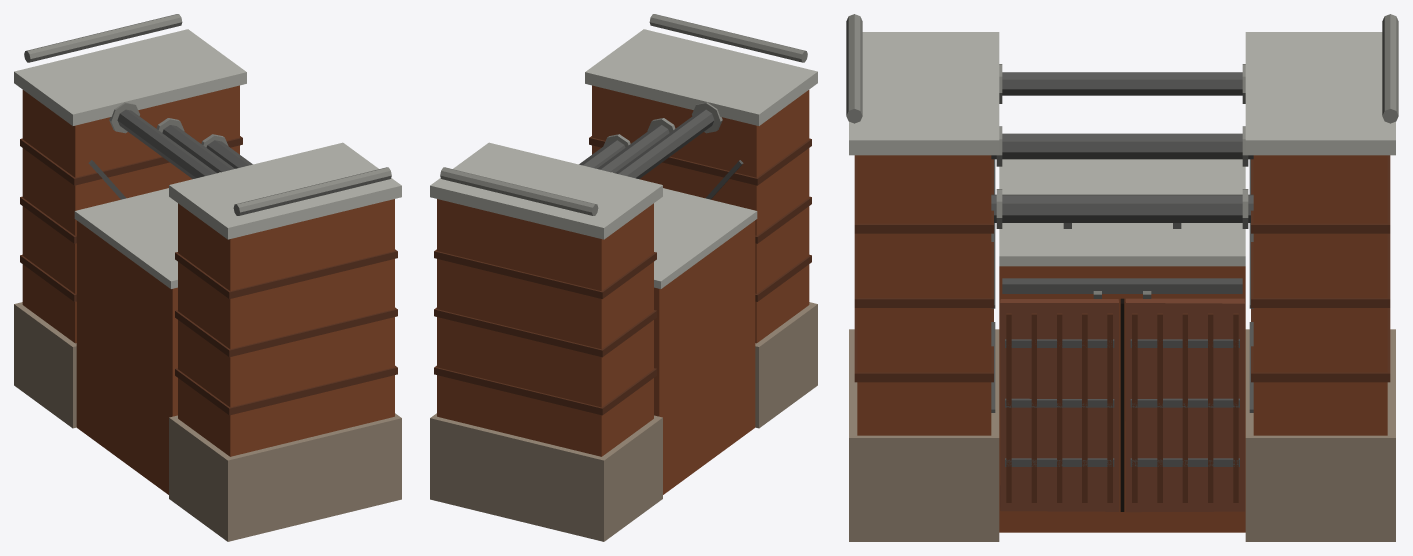
Rendered from fort_pumpworks_gate.glb.
The picture shows the model from 3 angles, left to right: view 1: azimuth 30°, elevation 25°; view 2: azimuth 150°, elevation 25°; view 3: azimuth 270°, elevation 25°; orthographic projection. The views are drawn at different scales.
Visible parts, largest first — view 1: fort_pumpworks_gate; view 2: fort_pumpworks_gate; view 3: fort_pumpworks_gate.
Part boxes in pixels (<box>): fort_pumpworks_gate: <box>14,14,401,541</box>; fort_pumpworks_gate: <box>430,14,817,541</box>; fort_pumpworks_gate: <box>846,14,1398,541</box>.
Size of the model in its own units: 9.46 by 17.2 by 20.2.
